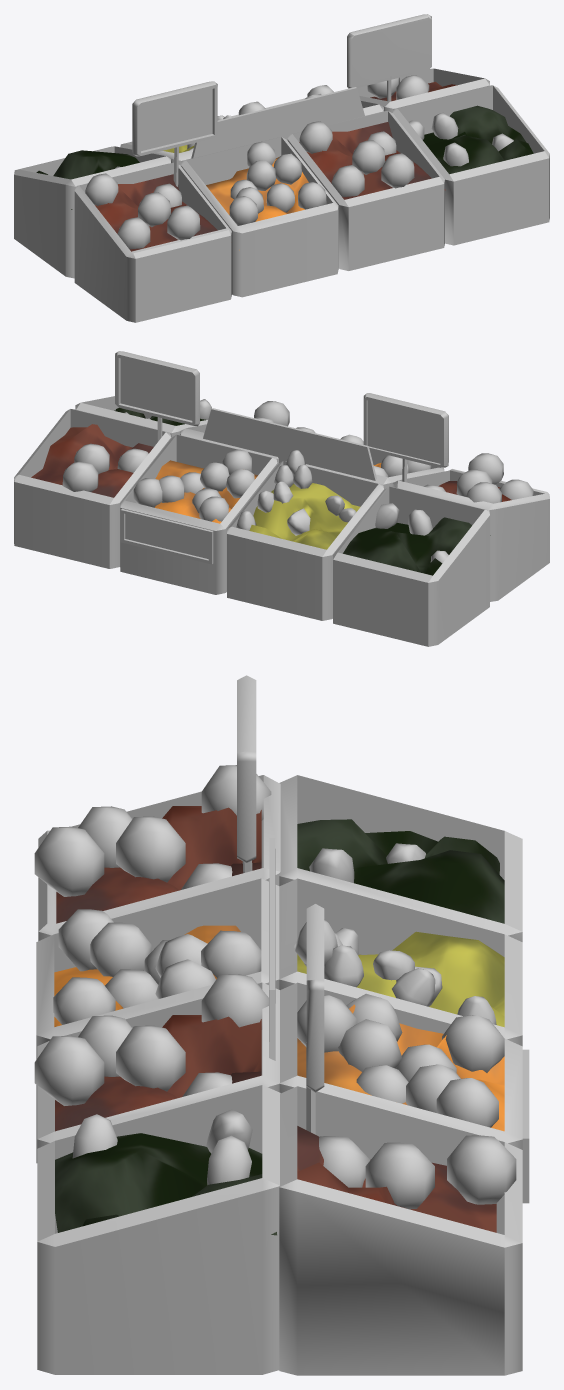
File: fruit shelf 1.fbx
The picture shows the model from 3 angles, top to bottom: view 1: azimuth 30°, elevation 25°; view 2: azimuth 150°, elevation 25°; view 3: azimuth 270°, elevation 25°; orthographic projection. The views are drawn at different scales.
Parts seen in each view (by area): view 1: polySurface8148; view 2: polySurface8148; view 3: polySurface8148.
Boxes of the visible parts, x1,y1,x2,y2 form: polySurface8148: [14, 14, 549, 322]; polySurface8148: [14, 351, 549, 646]; polySurface8148: [34, 675, 529, 1375].
Bounding box in the file's own units: 2.56 × 0.989 × 1.29.
